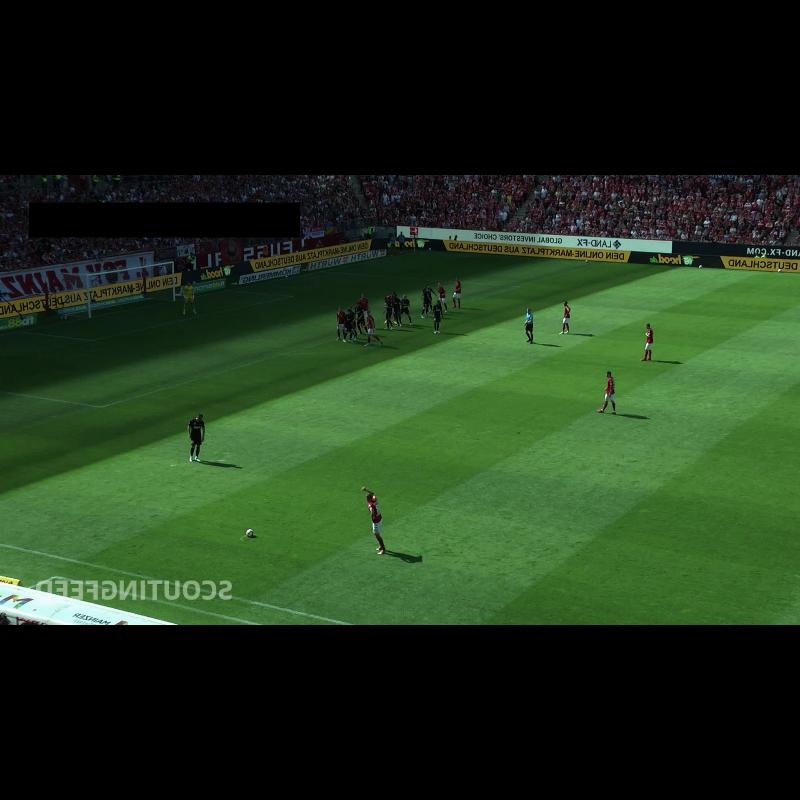cross_recipient_zone: (0, 272, 521, 407)
crossing_player_zone: (0, 391, 279, 547), (323, 253, 713, 296)
pitch: (0, 253, 800, 625)
